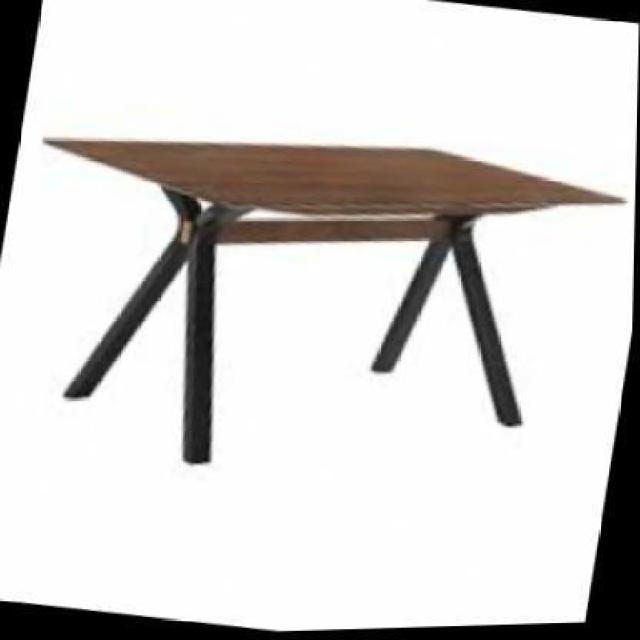tables: (40, 132, 628, 465)
